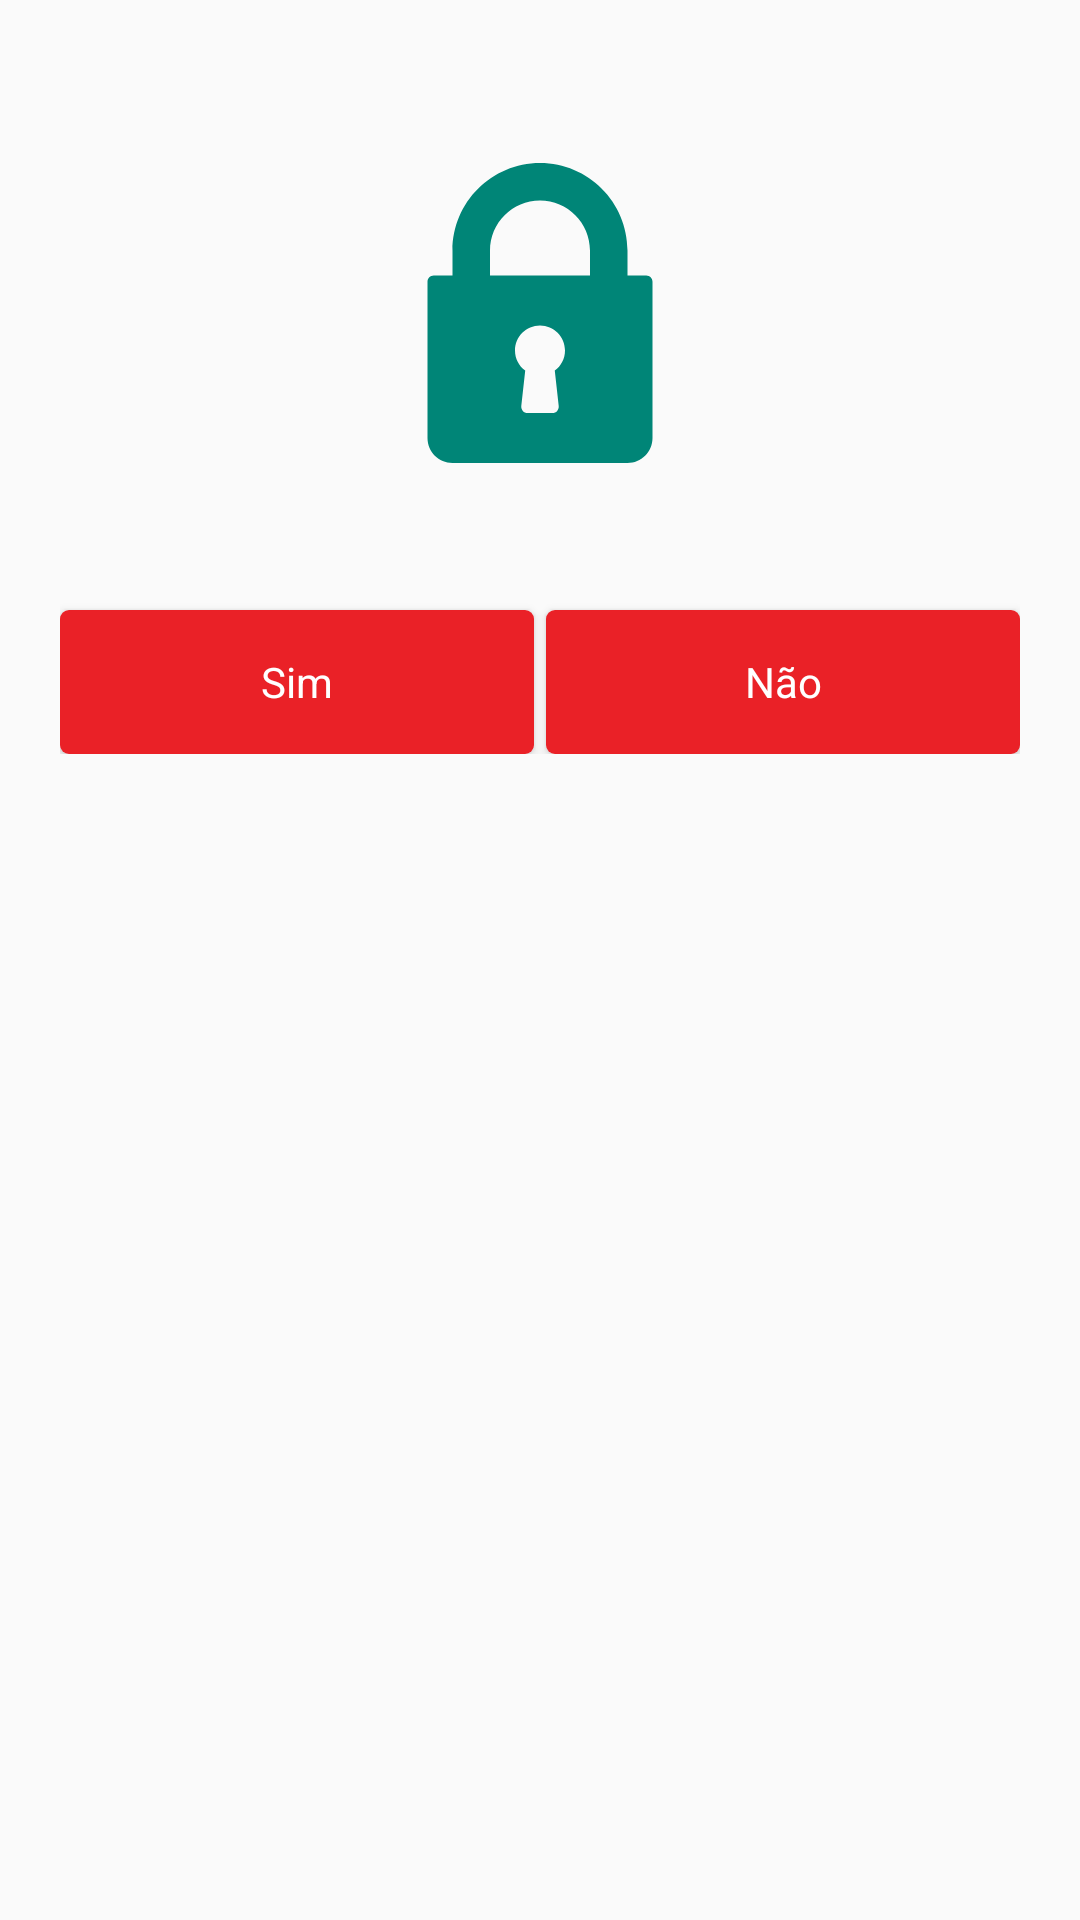

Named icons in this screenshot (1080x1920) and their centers, point (x, y):
login password: point (540, 313)
